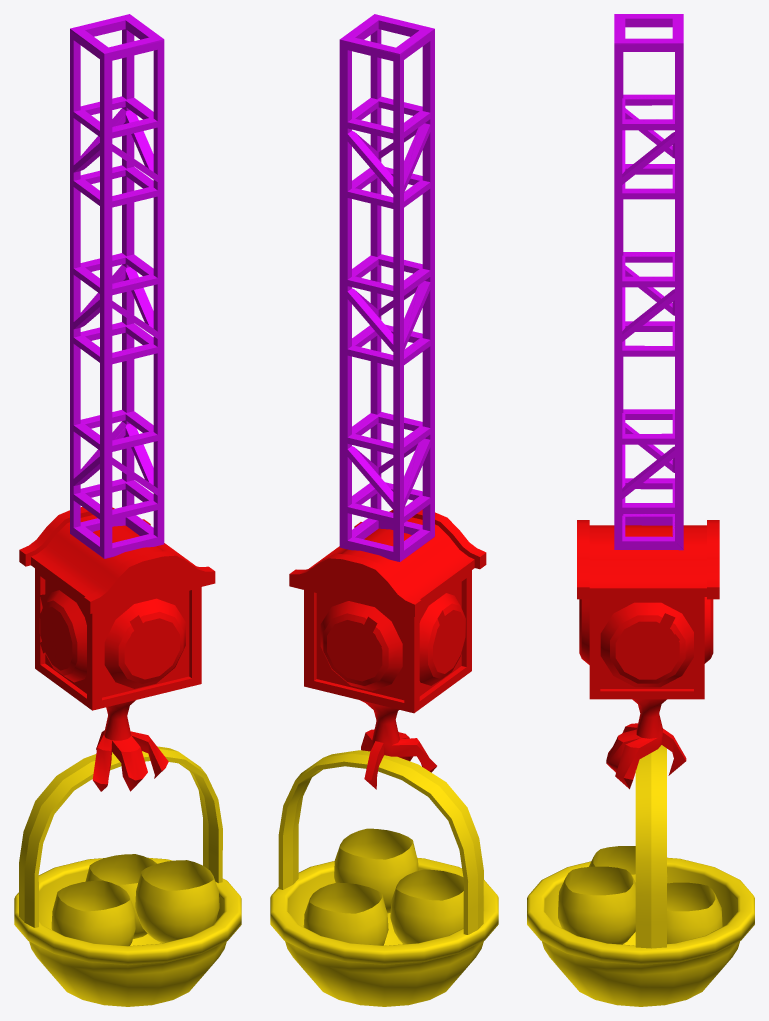
File: 알둥지텍스쳐링용.fbx
The picture shows the model from 3 angles, left to right: view 1: azimuth 30°, elevation 25°; view 2: azimuth 150°, elevation 25°; view 3: azimuth 270°, elevation 25°; orthographic projection.
Visible parts, largest first — view 1: Rectangle1353, Cylinder096, Line115, Box101, Arc006, Box104, Object049, Box103, Cylinder054, Object060, Box105, Plane227; view 2: Rectangle1353, Cylinder096, Line115, Arc006, Box101, Object058, Box103, Box104, Box105, Object060, Cylinder054, Plane228 (+1 smaller); view 3: Rectangle1353, Cylinder096, Line115, Arc006, Object059, Box101, Box104, Cylinder054, Box105, Box103, Plane229, Object049 (+1 smaller).
Part boxes in pixels (<box>): Rectangle1353: <box>70,14,164,558</box>; Cylinder096: <box>14,857,241,1006</box>; Line115: <box>19,507,215,613</box>; Box101: <box>35,568,201,710</box>; Arc006: <box>19,746,222,927</box>; Box104: <box>135,860,219,943</box>; Object049: <box>104,598,185,688</box>; Box103: <box>51,880,135,945</box>; Cylinder054: <box>92,700,168,791</box>; Object060: <box>39,590,86,682</box>; Box105: <box>85,854,156,938</box>; Plane227: <box>125,615,156,675</box>; Rectangle1353: <box>339,14,434,561</box>; Cylinder096: <box>270,858,498,1006</box>; Line115: <box>289,509,486,616</box>; Arc006: <box>278,750,483,934</box>; Box101: <box>304,570,471,713</box>; Object058: <box>320,601,402,690</box>; Box103: <box>390,869,463,944</box>; Box104: <box>334,828,418,913</box>; Box105: <box>303,882,388,945</box>; Object060: <box>419,593,465,685</box>; Cylinder054: <box>360,700,436,789</box>; Plane228: <box>350,616,381,677</box>; Rectangle1353: <box>614,14,683,550</box>; Cylinder096: <box>527,857,754,1006</box>; Line115: <box>577,520,719,599</box>; Arc006: <box>635,745,666,948</box>; Object059: <box>600,602,693,687</box>; Box101: <box>589,597,704,699</box>; Box104: <box>558,866,635,944</box>; Cylinder054: <box>606,699,686,789</box>; Box105: <box>667,882,722,943</box>; Box103: <box>589,846,667,883</box>; Plane229: <box>644,613,679,673</box>; Object049: <box>579,599,589,664</box>.
Bounding box in the file's own units: 124 × 560 × 123.
